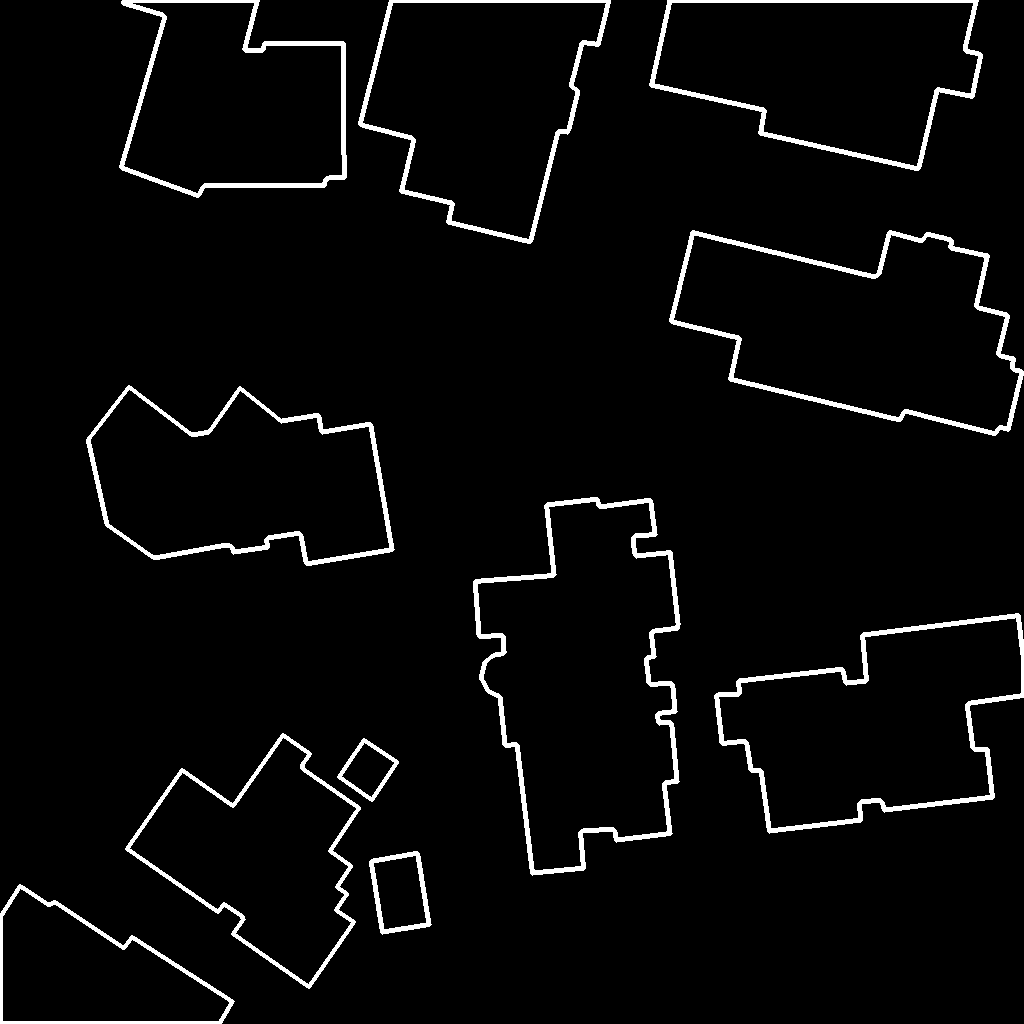building: (475, 499, 679, 874), (671, 232, 1023, 435), (716, 615, 1024, 832), (360, 0, 610, 243), (127, 735, 360, 988), (651, 0, 982, 170), (88, 387, 393, 565), (121, 0, 345, 197), (0, 886, 234, 1024), (371, 853, 430, 933), (339, 740, 398, 801)
